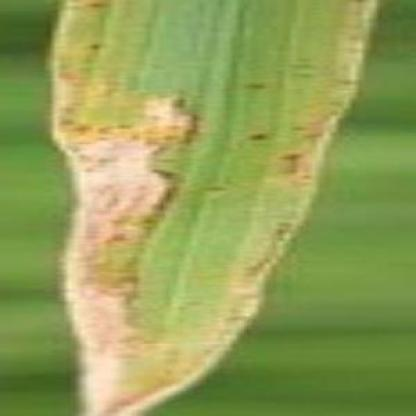Blight: (58, 88, 206, 416)
